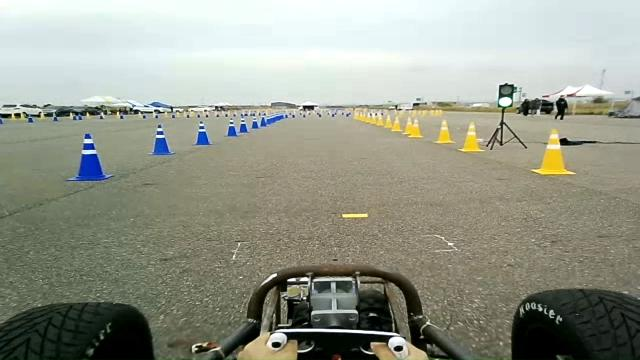blue cone: (66, 133, 114, 181), (147, 123, 175, 155), (192, 121, 212, 146), (224, 118, 238, 137), (238, 119, 250, 133), (260, 116, 268, 127), (251, 120, 259, 129)
yellow cone: (351, 108, 485, 153), (353, 107, 443, 132), (530, 128, 576, 176), (458, 121, 484, 152), (433, 118, 455, 144), (408, 118, 423, 138), (403, 116, 414, 134), (390, 116, 402, 132), (341, 212, 368, 218), (384, 114, 392, 128), (364, 112, 372, 124), (376, 115, 384, 126)
